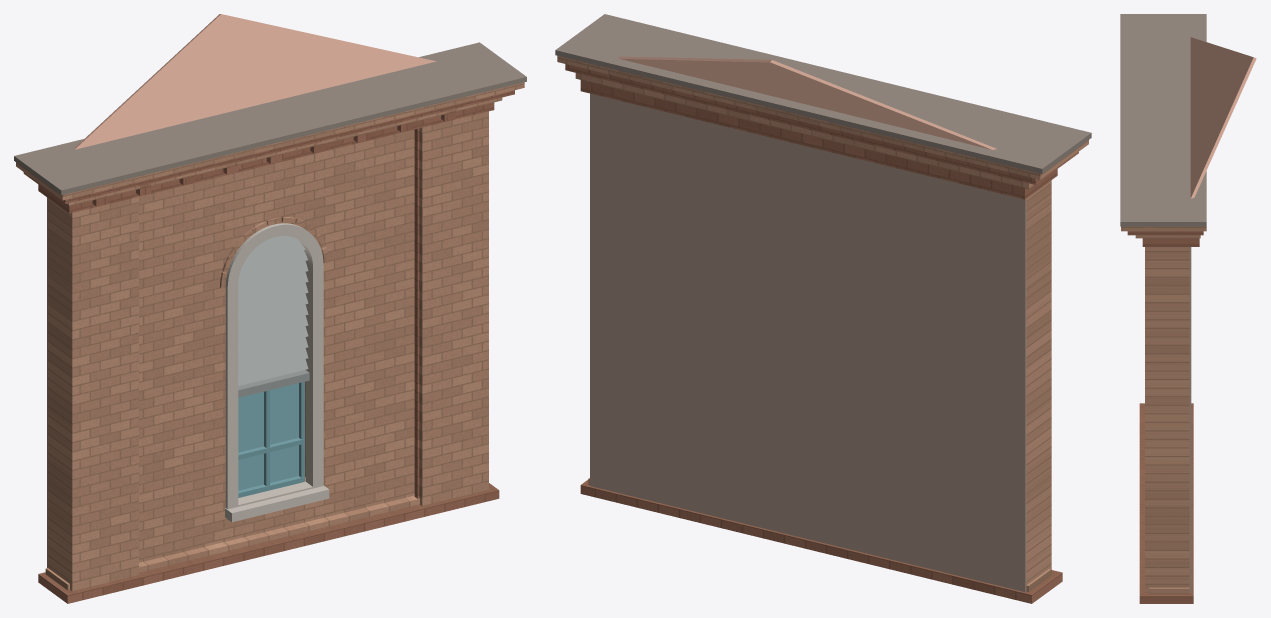
The model's file is water-tower-crown-near.glb.
3 views of the same model, side by side, from view 1: azimuth 30°, elevation 25°; view 2: azimuth 150°, elevation 25°; view 3: azimuth 270°, elevation 25° (orthographic). The views are drawn at different scales.
Visible parts, largest first — view 1: 美童公学水塔顶层砖券窗与挑檐; view 2: 美童公学水塔顶层砖券窗与挑檐; view 3: 美童公学水塔顶层砖券窗与挑檐.
Boxes of the visible parts, x1,y1,x2,y2 form: 美童公学水塔顶层砖券窗与挑檐: (14, 14, 526, 603); 美童公学水塔顶层砖券窗与挑檐: (555, 14, 1091, 603); 美童公学水塔顶层砖券窗与挑檐: (1120, 14, 1256, 603).
Bounding box in the file's own units: 4.92 × 4.97 × 1.36.
Materials: 10 (2 with a texture image).
